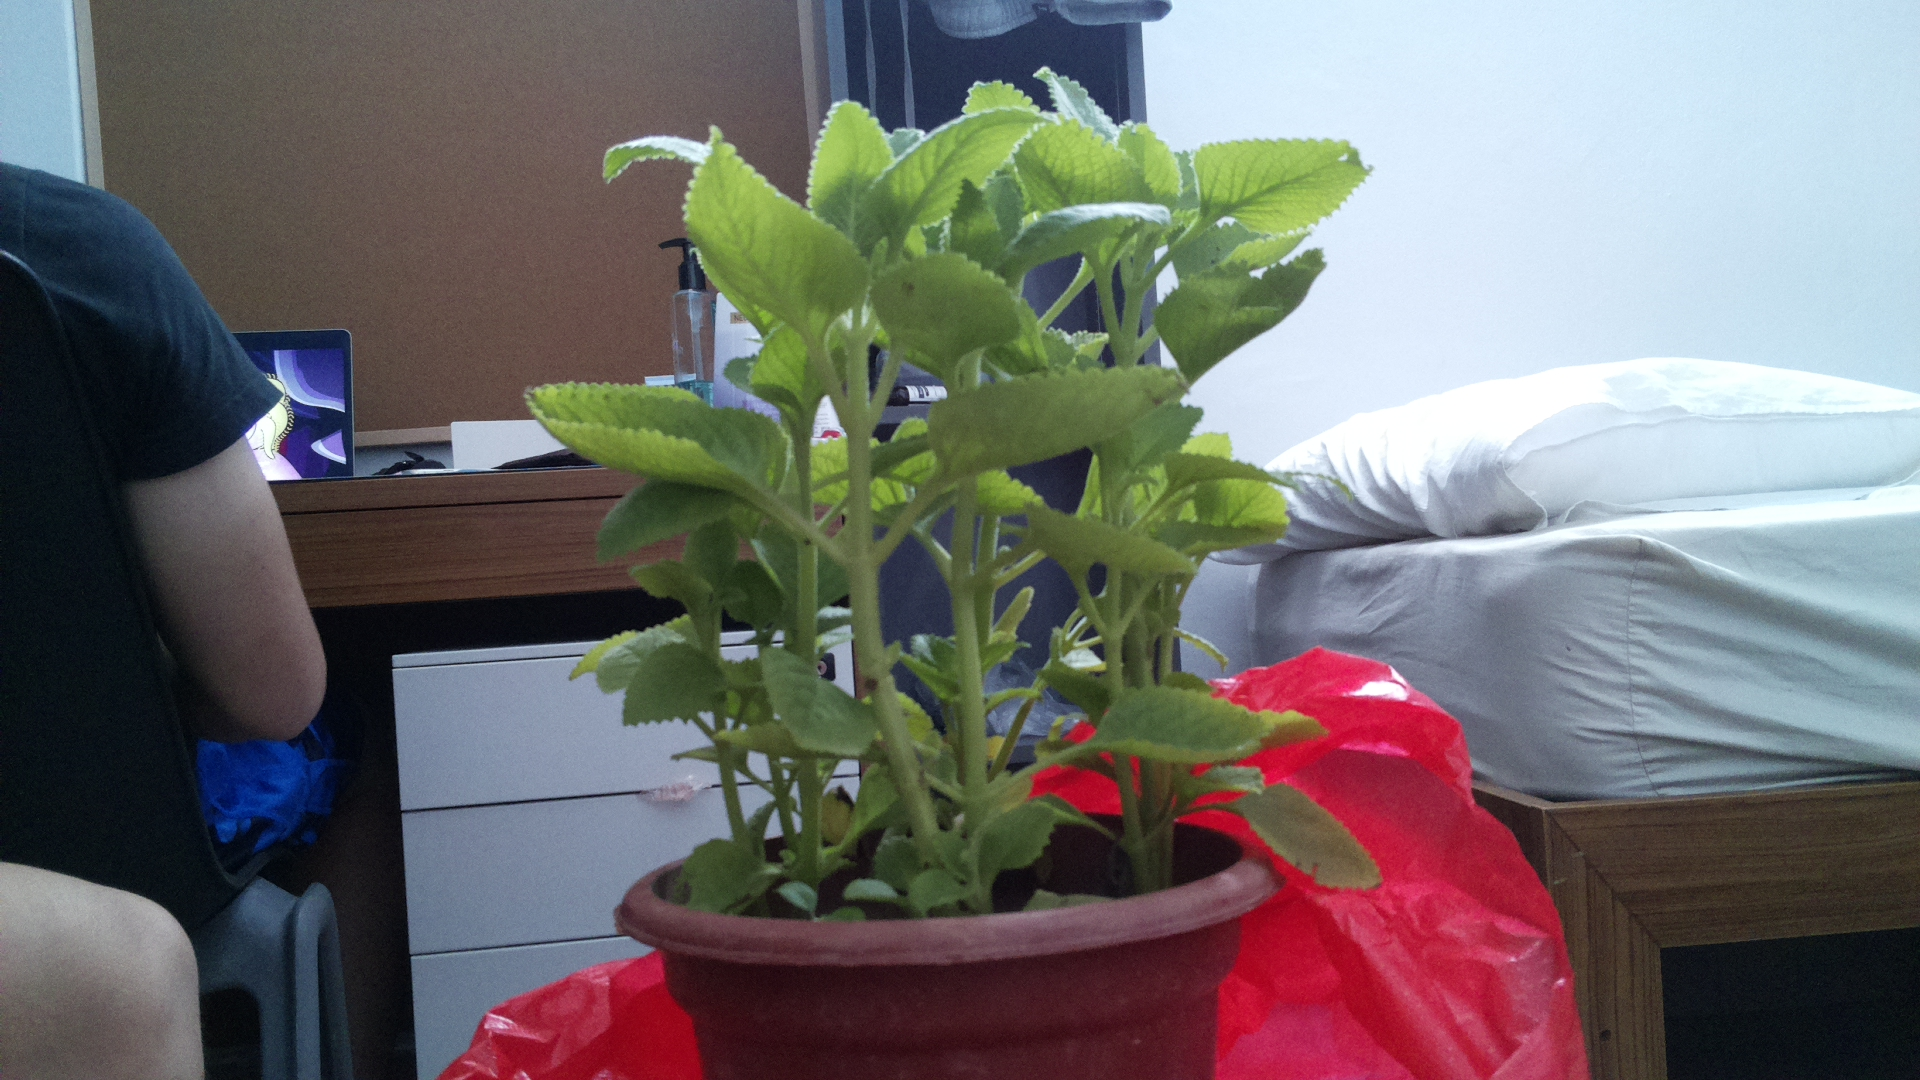leaf: (911, 351, 1191, 483), (673, 145, 865, 335), (520, 378, 775, 506), (1147, 251, 1331, 386), (865, 107, 1040, 237), (1083, 687, 1328, 769), (1185, 138, 1379, 239), (1228, 781, 1393, 895), (872, 239, 1015, 359), (799, 88, 901, 251), (1005, 105, 1153, 214), (760, 641, 884, 766), (1027, 498, 1195, 582), (624, 630, 735, 735), (1033, 113, 1147, 204), (992, 795, 1064, 878), (1039, 65, 1116, 142), (593, 131, 709, 174), (967, 80, 1033, 123)
